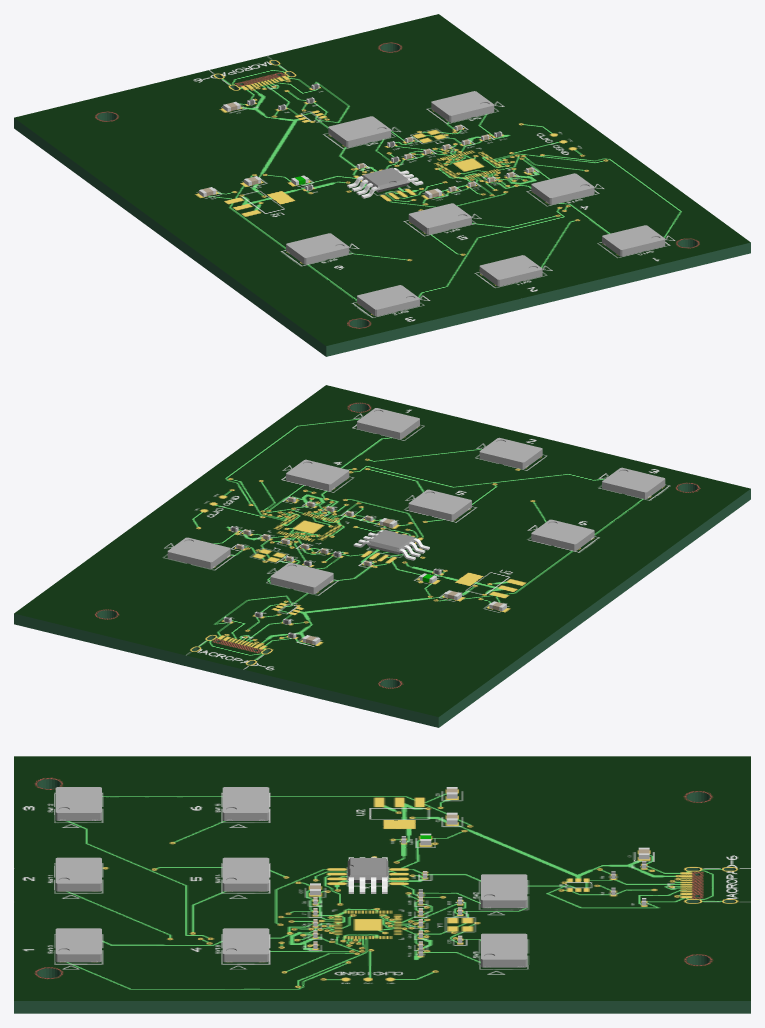
3 views of the same model, one above another, from view 1: azimuth 30°, elevation 25°; view 2: azimuth 150°, elevation 25°; view 3: azimuth 270°, elevation 25° (orthographic). The views are drawn at different scales.
Parts seen in each view (by area): view 1: Box0, SW10, SW14, SW15, SW3, SW11, SW13, SW2, SW12, U4; view 2: Box0, SW15, SW11, SW2, SW12, SW13, SW14, SW3, SW10, U4; view 3: Box0, SW13, SW14, SW2, SW10, SW11, SW3, SW15, SW12, U4.
Boxes of the visible parts, x1,y1,x2,y2 form: Box0: (14,14,750,356); SW10: (602,225,665,256); SW14: (408,203,471,234); SW15: (286,233,349,264); SW3: (431,91,494,122); SW11: (479,255,542,286); SW13: (531,173,594,204); SW2: (328,116,391,147); SW12: (357,285,419,316); U4: (347,167,423,198); Box0: (14,385,750,727); SW15: (531,519,594,550); SW11: (479,437,542,469); SW2: (270,562,333,593); SW12: (602,467,665,499); SW13: (286,459,349,491); SW14: (408,489,471,520); SW3: (167,537,230,568); SW10: (357,408,419,439); U4: (353,530,429,560); Box0: (14,756,750,1013); SW13: (222,928,269,962); SW14: (222,857,269,891); SW2: (481,874,527,908); SW10: (55,928,101,962); SW11: (55,857,101,891); SW3: (481,933,527,967); SW15: (222,787,269,820); SW12: (55,787,101,820); U4: (347,857,388,893).
Size of the model in its own units: 66 by 2.88 by 84.
10 materials, 2 textured.
